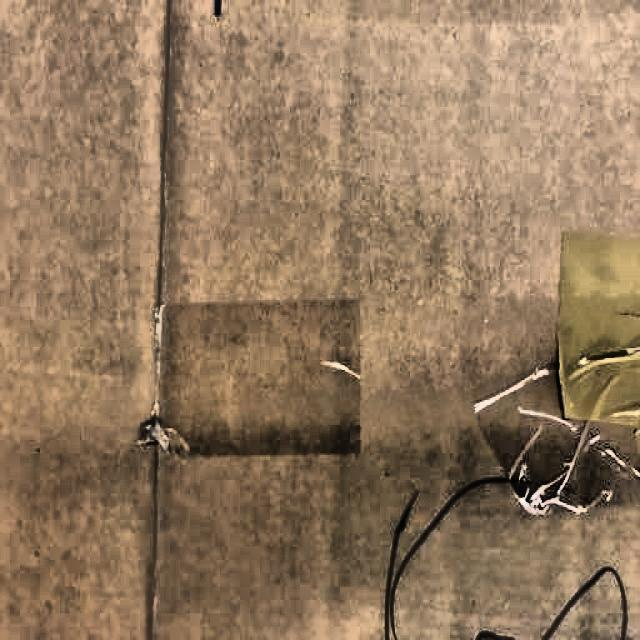cardboard: (555, 226, 639, 434)
